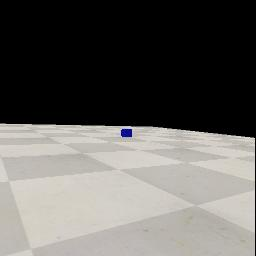box: (121, 129, 132, 137)
